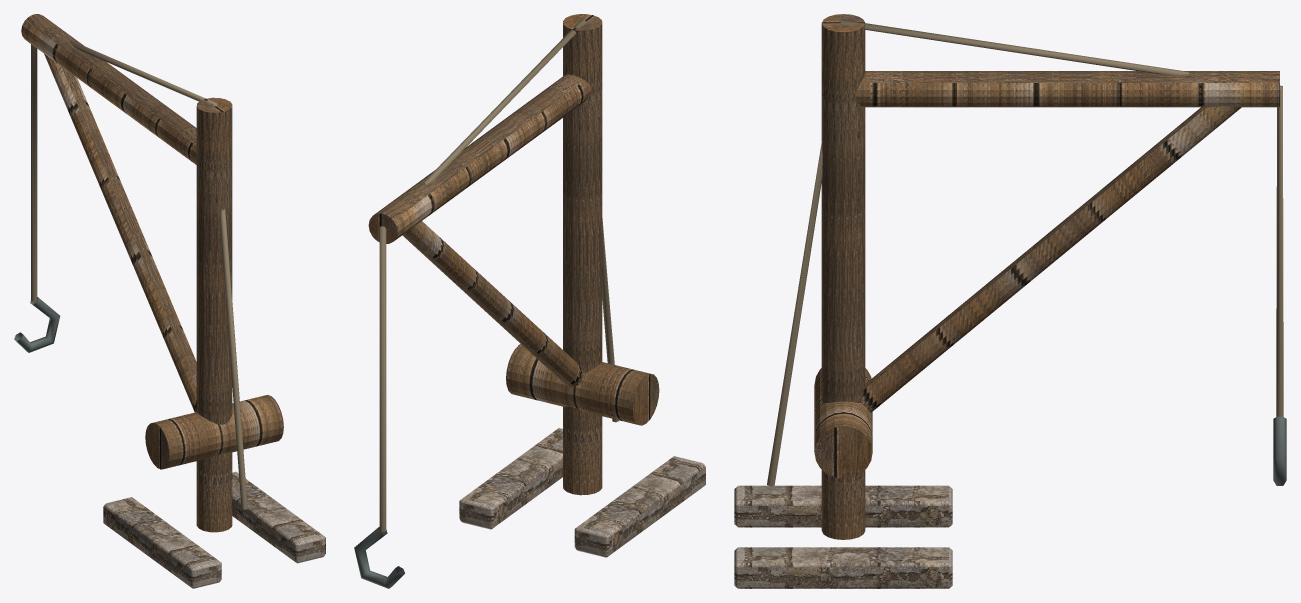
The model's file is port_crane.glb.
3 renders of one model, left to right at view 1: azimuth 30°, elevation 25°; view 2: azimuth 150°, elevation 25°; view 3: azimuth 270°, elevation 25°, orthographic. The views are drawn at different scales.
Visible parts, largest first — view 1: timber_upright, crane_foot, lifting_rope, cargo_hook; view 2: timber_upright, crane_foot, lifting_rope, cargo_hook; view 3: timber_upright, crane_foot, lifting_rope, cargo_hook.
Part boxes in pixels (x1,y1,x2,y2): timber_upright: (21,14,283,532); crane_foot: (103,471,325,588); lifting_rope: (31,41,247,509); cargo_hook: (14,297,60,352); timber_upright: (368,14,659,495); crane_foot: (459,428,705,557); lifting_rope: (379,18,619,531); cargo_hook: (354,527,404,588); timber_upright: (814,14,1279,539); crane_foot: (734,485,952,588); lifting_rope: (767,19,1283,486); cargo_hook: (1273,416,1286,485).
Size of the model in its own units: 2.6 by 8.04 by 7.59.
4 materials, 2 textured.
